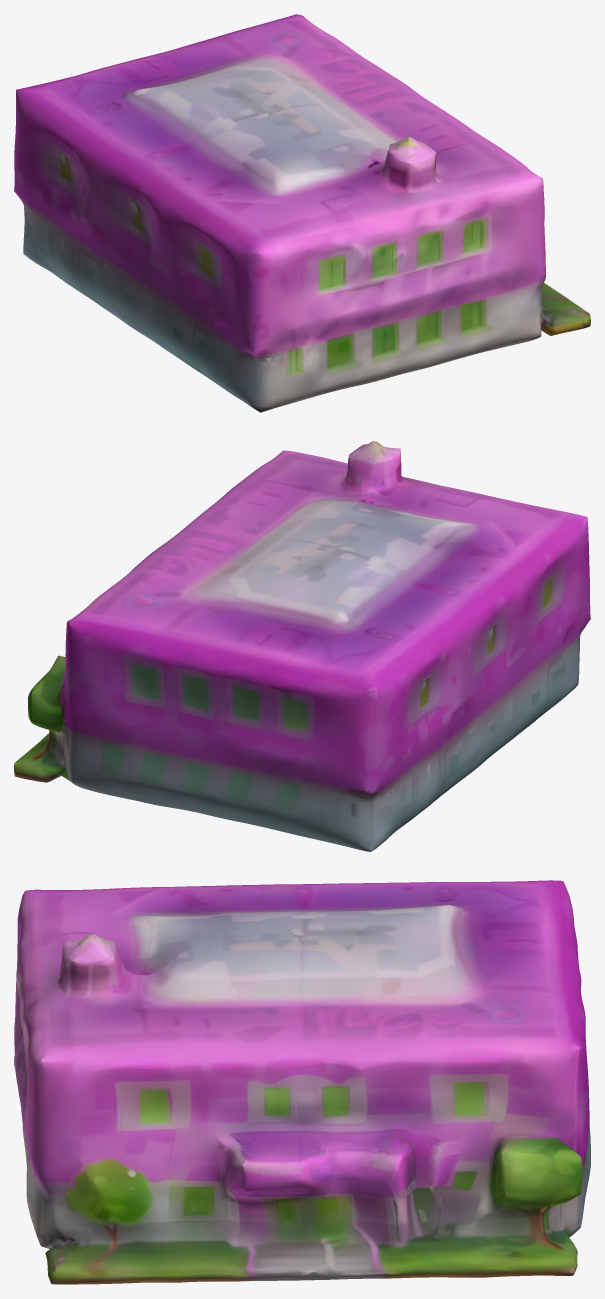
Rendered from A_pink_high_quality_hospita.fbx.
3 renders of one model, top to bottom at view 1: azimuth 30°, elevation 25°; view 2: azimuth 150°, elevation 25°; view 3: azimuth 270°, elevation 25°, orthographic. The views are drawn at different scales.
Visible parts, largest first — view 1: Mesh_0; view 2: Mesh_0; view 3: Mesh_0.
Boxes of the visible parts, x1=… form: Mesh_0: x1=14, y1=14, x2=590, y2=412; Mesh_0: x1=14, y1=441, x2=590, y2=851; Mesh_0: x1=14, y1=880, x2=590, y2=1284.
Size of the model in its own units: 105 by 61.33 by 120.
Materials: 1 (1 with a texture image).
